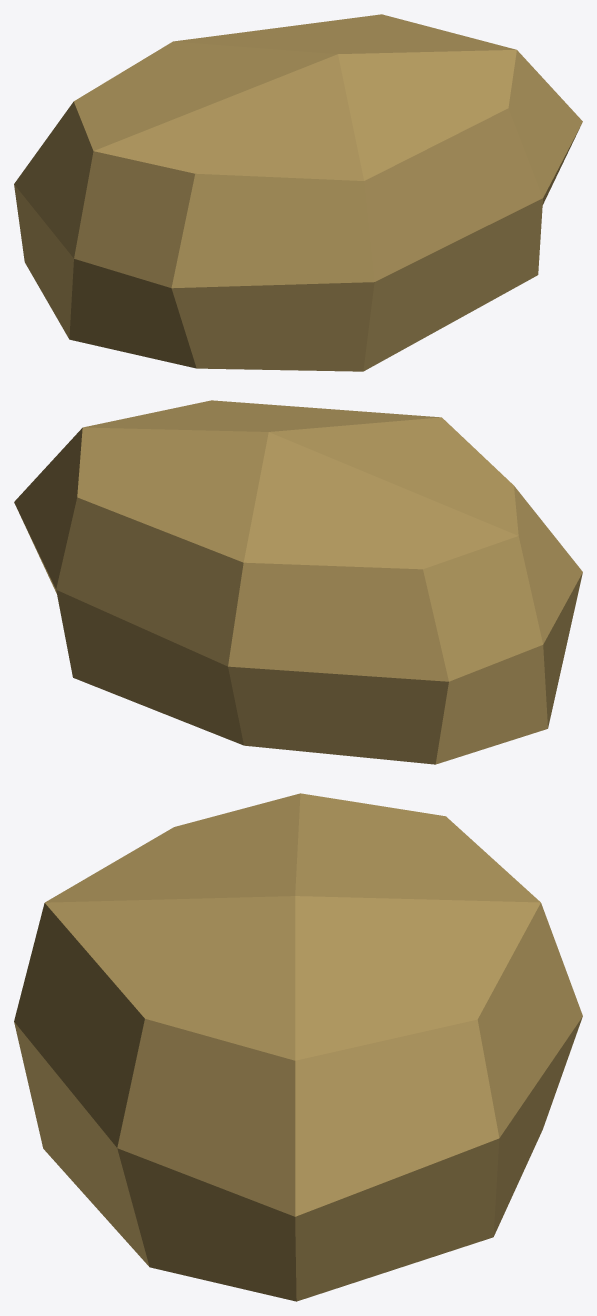
Rendered from a_z3_rock_s.fbx.
3 views of the same model, one above another, from view 1: azimuth 30°, elevation 25°; view 2: azimuth 150°, elevation 25°; view 3: azimuth 270°, elevation 25° (orthographic). The views are drawn at different scales.
Parts seen in each view (by area): view 1: a_z3_rock_s; view 2: a_z3_rock_s; view 3: a_z3_rock_s.
Boxes of the visible parts, x1,y1,x2,y2 form: a_z3_rock_s: (14, 14, 582, 371); a_z3_rock_s: (14, 400, 582, 764); a_z3_rock_s: (14, 793, 582, 1301).
Bounding box in the file's own units: 213 × 98.08 × 157.
